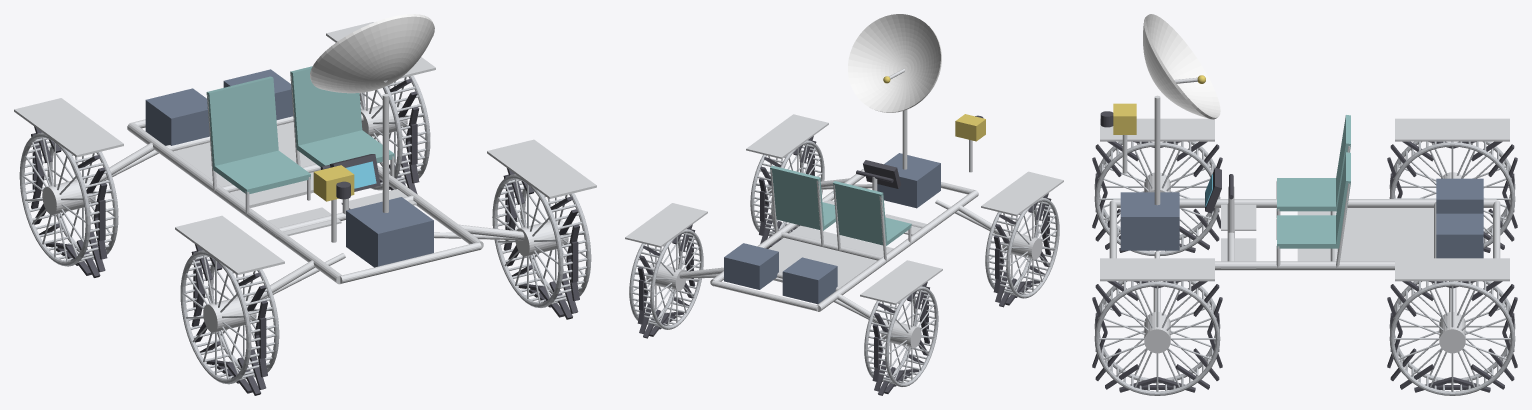
Rendered from lunar_rover.glb.
3 views of the same model, side by side, from view 1: azimuth 30°, elevation 25°; view 2: azimuth 150°, elevation 25°; view 3: azimuth 270°, elevation 25° (orthographic). The views are drawn at different scales.
Visible parts, largest first — view 1: p5_Frame and batteries_14, p0_Wheels_0, p1_Seats_3, p0_Wheels_1, p5_Frame and batteries_15, p2_Dish antenna_6, p0_Wheels_2, p1_Seats_4, p3_TV camera_9, p2_Dish antenna_5, p4_Hand controller_12, p4_Hand controller_13; view 2: p5_Frame and batteries_14, p0_Wheels_0, p2_Dish antenna_6, p5_Frame and batteries_15, p0_Wheels_1, p1_Seats_3, p0_Wheels_2, p1_Seats_4, p4_Hand controller_12, p3_TV camera_9, p2_Dish antenna_5; view 3: p5_Frame and batteries_14, p0_Wheels_0, p0_Wheels_1, p5_Frame and batteries_15, p1_Seats_3, p2_Dish antenna_6, p0_Wheels_2, p1_Seats_4, p2_Dish antenna_5, p3_TV camera_9, p4_Hand controller_12.
Part boxes in pixels (box(x1,y1,x2,y2)): p5_Frame and batteries_14: box(14, 22, 596, 299); p0_Wheels_0: box(19, 75, 591, 384); p1_Seats_3: box(206, 66, 394, 194); p0_Wheels_1: box(31, 78, 579, 395); p5_Frame and batteries_15: box(145, 69, 433, 267); p2_Dish antenna_6: box(310, 14, 434, 93); p0_Wheels_2: box(42, 102, 568, 332); p1_Seats_4: box(207, 74, 416, 238); p3_TV camera_9: box(313, 165, 354, 201); p2_Dish antenna_5: box(382, 80, 388, 212); p4_Hand controller_12: box(320, 154, 380, 191); p4_Hand controller_13: box(346, 161, 376, 188); p5_Frame and batteries_14: box(625, 114, 1063, 323); p0_Wheels_0: box(629, 140, 1059, 386); p2_Dish antenna_6: box(848, 14, 941, 112); p5_Frame and batteries_15: box(724, 153, 940, 304); p0_Wheels_1: box(637, 136, 1051, 395); p1_Seats_3: box(770, 165, 911, 245); p0_Wheels_2: box(646, 183, 1042, 348); p1_Seats_4: box(770, 169, 934, 261); p4_Hand controller_12: box(856, 160, 900, 188); p3_TV camera_9: box(955, 114, 985, 141); p2_Dish antenna_5: box(889, 68, 907, 169); p5_Frame and batteries_14: box(1100, 118, 1509, 312); p0_Wheels_0: box(1094, 141, 1515, 395); p0_Wheels_1: box(1092, 141, 1517, 392); p5_Frame and batteries_15: box(1120, 178, 1483, 258); p1_Seats_3: box(1277, 115, 1350, 248); p2_Dish antenna_6: box(1143, 14, 1220, 119); p0_Wheels_2: box(1144, 172, 1465, 353); p1_Seats_4: box(1221, 145, 1350, 268); p2_Dish antenna_5: box(1154, 77, 1197, 205); p3_TV camera_9: box(1113, 103, 1136, 134); p4_Hand controller_12: box(1205, 167, 1233, 213).
Bounding box in the file's own units: 2.58 × 2.25 × 2.88.
